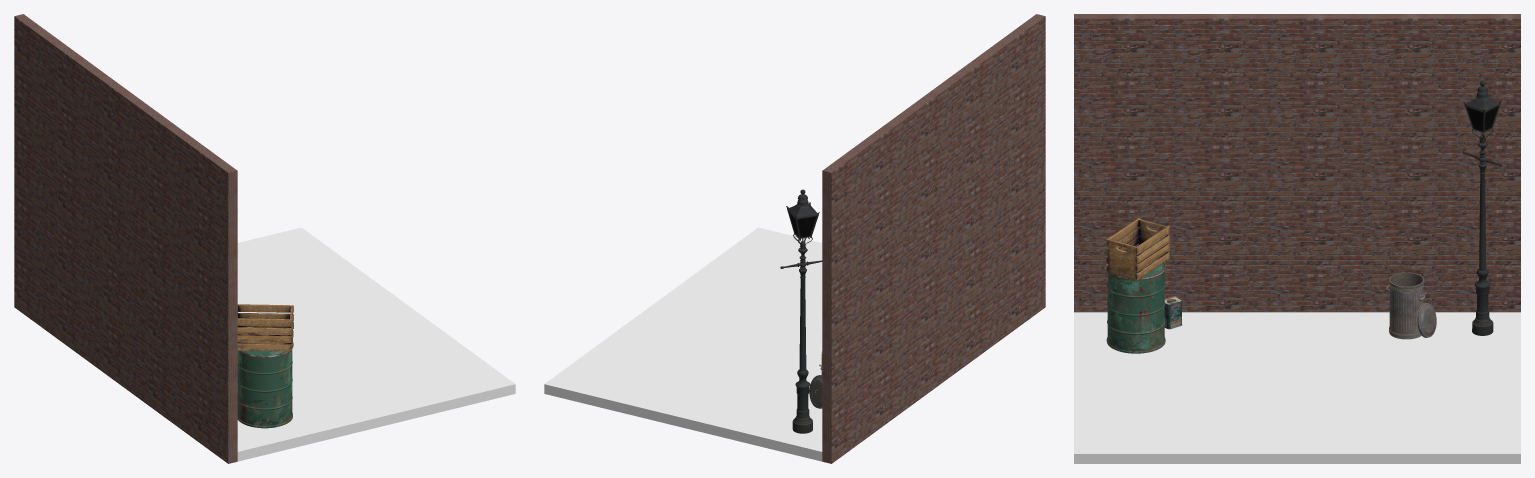
File: neonroom.brick.glb
3 views of the same model, side by side, from view 1: azimuth 30°, elevation 25°; view 2: azimuth 150°, elevation 25°; view 3: azimuth 270°, elevation 25° (orthographic). The views are drawn at different scales.
Parts seen in each view (by area): view 1: Cube.001, Cube, Steel-drum, Dirty Cedar White Wood Container; view 2: Cube.001, Cube, street_lamp_01; view 3: Cube.001, Cube, Steel-drum, street_lamp_01, Dirty Cedar White Wood Container, Metal Transh Can, Retopo_3DModel_mesh.
Part boxes in pixels (left/top/right/bottom): Cube.001: left=14, top=14, right=237, bottom=463; Cube: left=237, top=227, right=515, bottom=461; Steel-drum: left=237, top=341, right=293, bottom=428; Dirty Cedar White Wood Container: left=237, top=304, right=293, bottom=351; Cube.001: left=822, top=14, right=1045, bottom=463; Cube: left=544, top=227, right=822, bottom=461; street_lamp_01: left=780, top=189, right=822, bottom=433; Cube.001: left=1074, top=14, right=1520, bottom=312; Cube: left=1074, top=312, right=1520, bottom=463; Steel-drum: left=1104, top=262, right=1165, bottom=353; street_lamp_01: left=1463, top=81, right=1502, bottom=335; Dirty Cedar White Wood Container: left=1106, top=218, right=1169, bottom=280; Metal Transh Can: left=1386, top=272, right=1436, bottom=339; Retopo_3DModel_mesh: left=1164, top=296, right=1182, bottom=329.
Bounding box in the file's own units: 6.2 × 6 × 8.
Materials: 9 (8 with a texture image).
